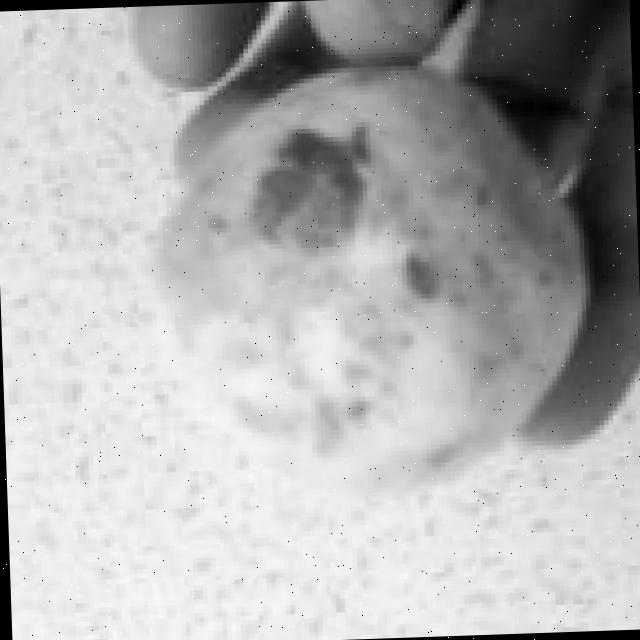Bad_Lime-0-1-day: (139, 61, 589, 500)
